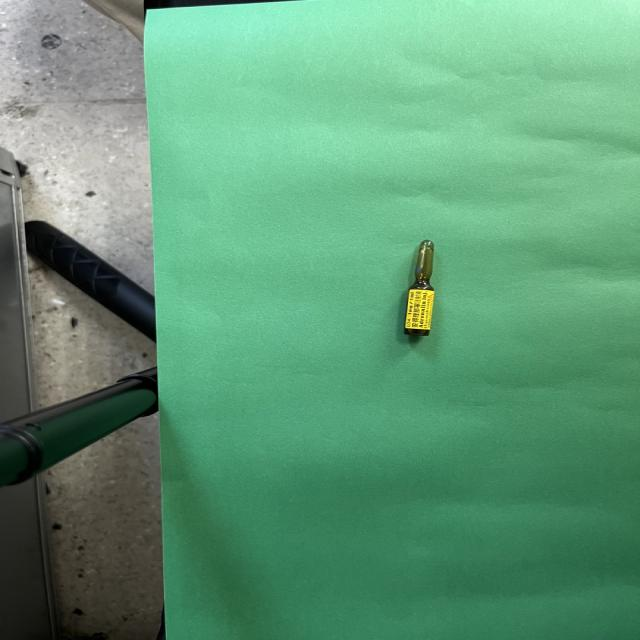Ampoules: (403, 240, 434, 336)
